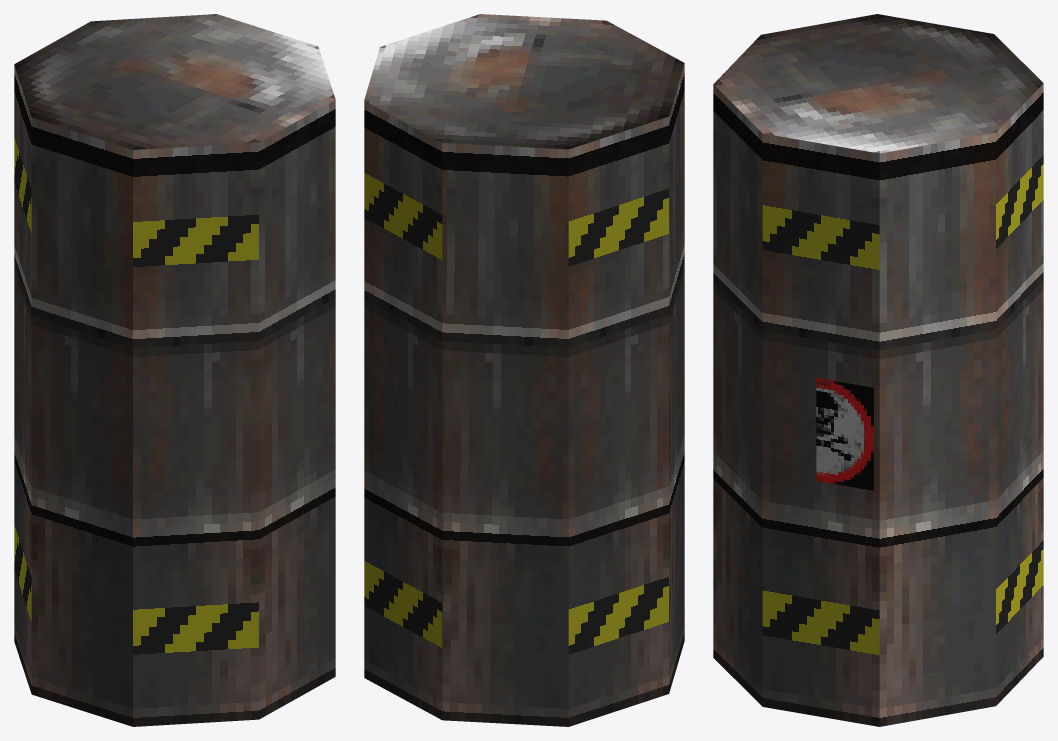
The model's file is primary_18.glb.
The picture shows the model from 3 angles, left to right: view 1: azimuth 30°, elevation 25°; view 2: azimuth 150°, elevation 25°; view 3: azimuth 270°, elevation 25°; orthographic projection.
Visible parts, largest first — view 1: Object; view 2: Object; view 3: Object.
Part boxes in pixels (<box>): Object: <box>14,14,335,726</box>; Object: <box>364,14,684,726</box>; Object: <box>713,14,1043,726</box>.
Size of the model in its own units: 0.7806 by 1.5 by 0.7806.
Materials: 9 (9 with a texture image).
